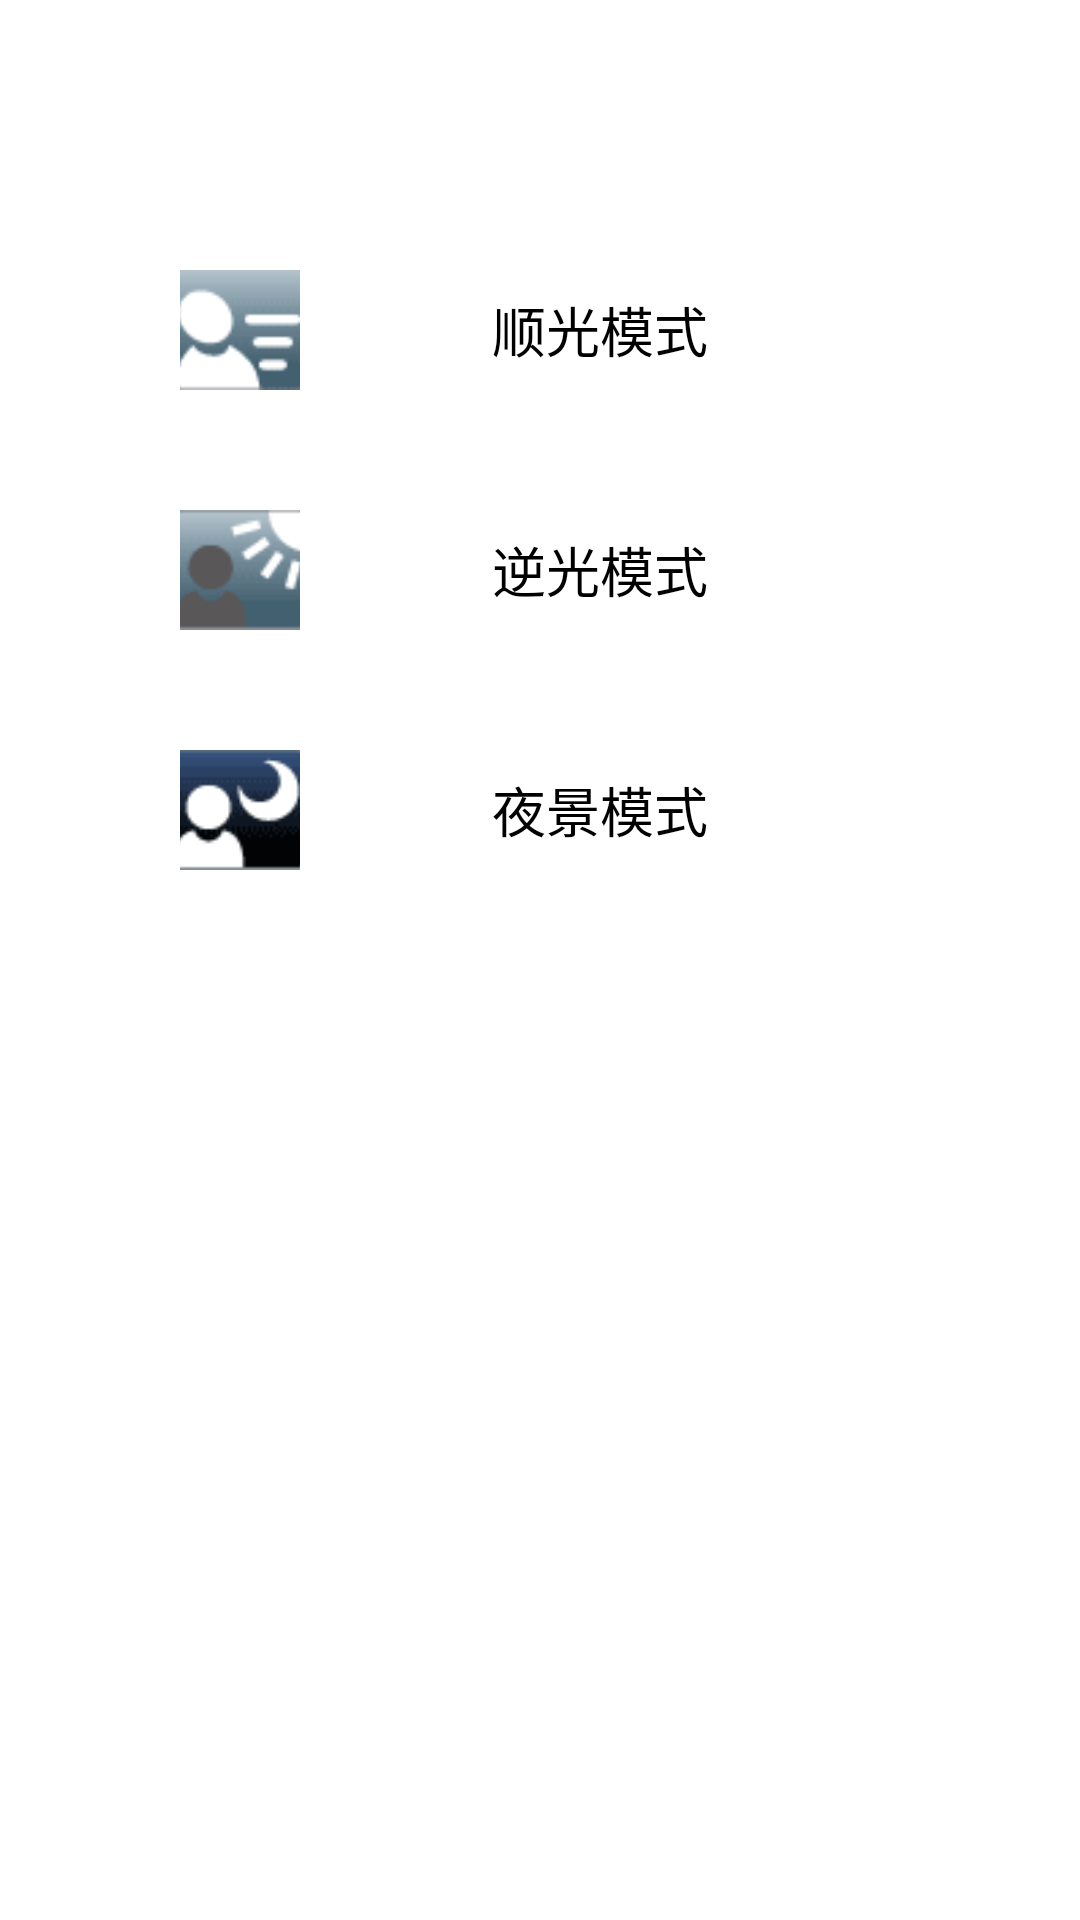

Named icons in this screenshot (1080 × 1920) and their bounding boxes, [x1,y1,x2,y2]:
pic back mode: [180,510,300,630]
pic front mode: [180,270,300,390]
pic night mode: [180,750,300,870]
